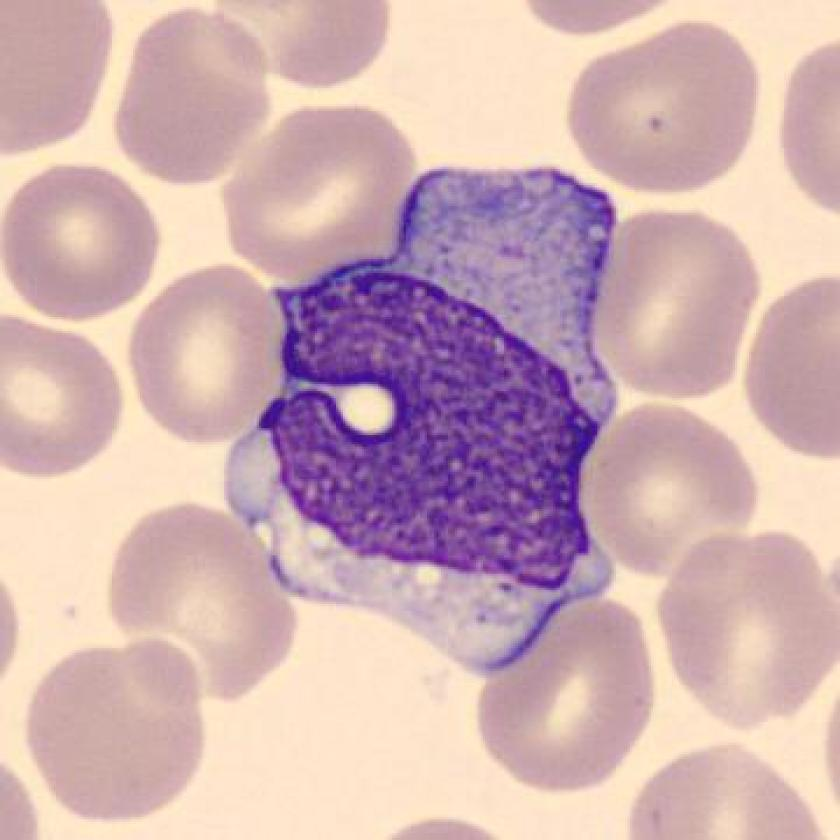monocyte: (206, 147, 659, 695)
